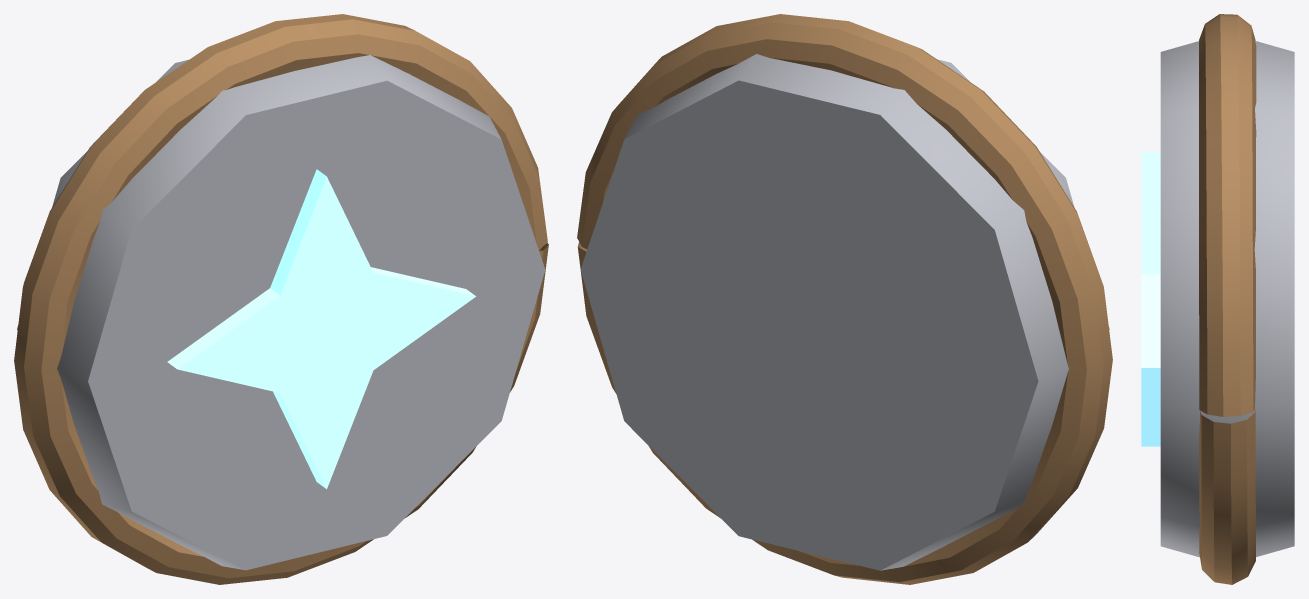
Rendered from ITEM_Rune_Blue.fbx.
The picture shows the model from 3 angles, left to right: view 1: azimuth 30°, elevation 25°; view 2: azimuth 150°, elevation 25°; view 3: azimuth 270°, elevation 25°; orthographic projection. The views are drawn at different scales.
Parts seen in each view (by area): view 1: ITEM_Rune_Blue; view 2: ITEM_Rune_Blue; view 3: ITEM_Rune_Blue.
Part boxes in pixels (left/top/right/bottom): ITEM_Rune_Blue: left=14, top=14, right=548, bottom=584; ITEM_Rune_Blue: left=577, top=14, right=1112, bottom=584; ITEM_Rune_Blue: left=1141, top=14, right=1294, bottom=584.
Bounding box in the file's own units: 0.5983 × 0.5986 × 0.16.
